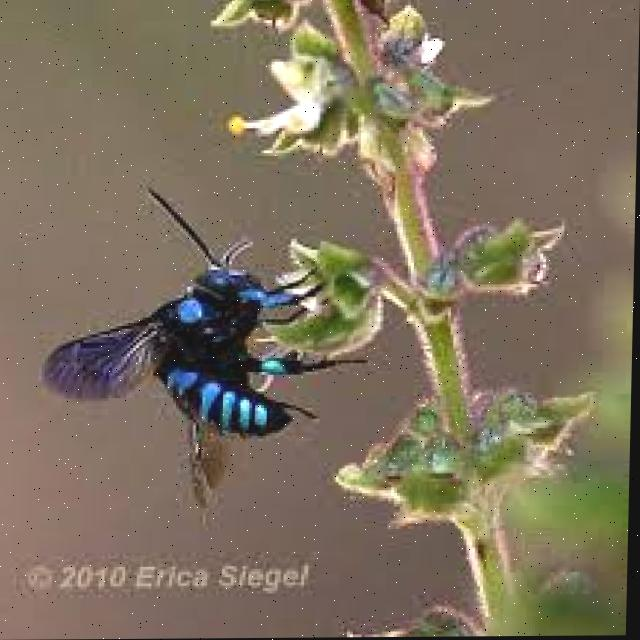Thyreus: (43, 180, 352, 442)
